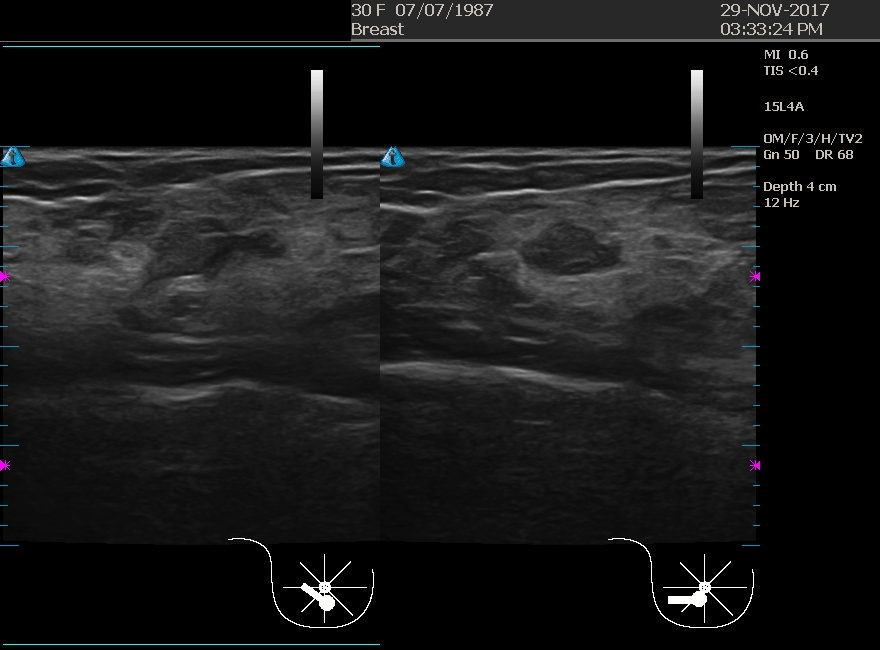BIRADS_4: (108, 180, 300, 372), (485, 176, 677, 368)
